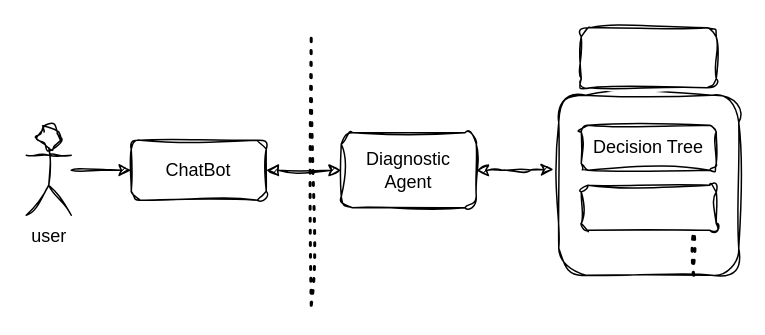
Some shapes in this 765 by 335 pixel diagram are drawn without their labels. The shapes that lost their labels are listed below. From the top down, each one's centre as x and y in pixels, then its label:
point 648,57: Primary Diagnostic model
point 648,207: Random Forest
